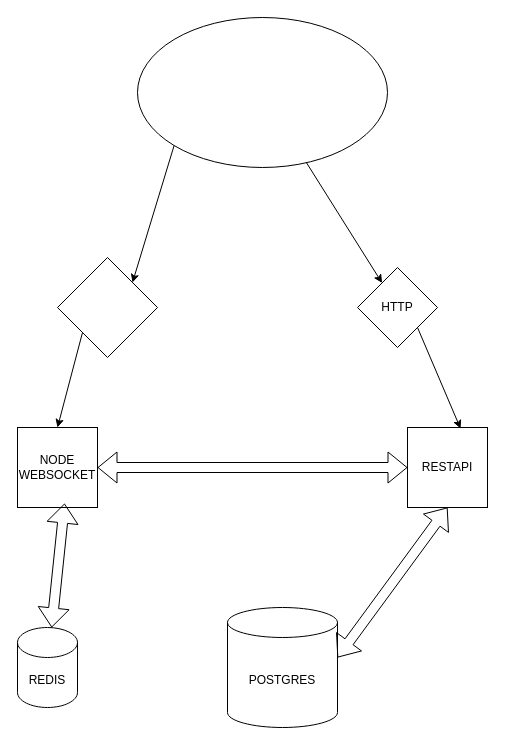
The diagram is 505 pixels wide and 745 high, and some of its shapes have lost their labels. The shapes that lost their labels are listed below. From the top down, each one's centre as x and y in pixels, then its label:
[262,92]: FrontEnd
[107,307]: WEBSOCKET
